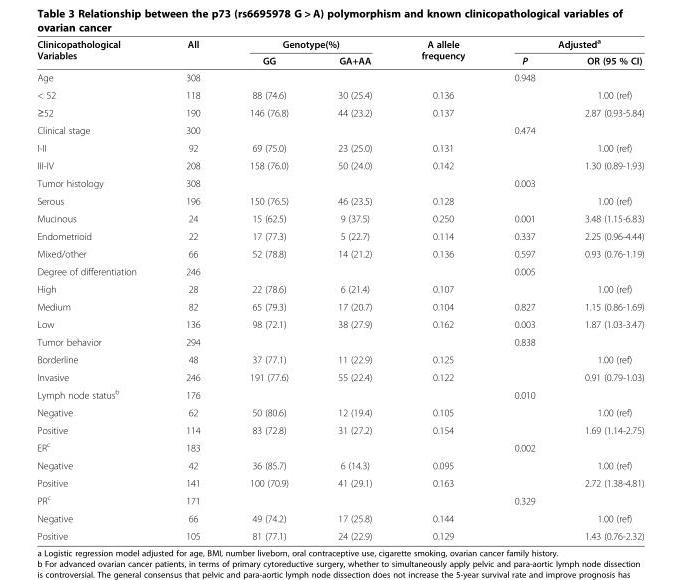table: (36, 36, 643, 541)
table column: (36, 36, 160, 541), (396, 36, 489, 541), (224, 36, 312, 541), (312, 36, 396, 541), (559, 36, 643, 541), (489, 36, 559, 541), (160, 36, 224, 541)
table column header: (36, 36, 643, 68)
table row: (36, 384, 643, 403), (36, 437, 643, 456), (36, 490, 643, 509), (36, 85, 643, 103), (36, 103, 643, 121), (36, 138, 643, 156), (36, 156, 643, 174), (36, 191, 643, 209), (36, 209, 643, 227), (36, 244, 643, 262), (36, 279, 643, 297), (36, 297, 643, 315), (36, 332, 643, 350), (36, 350, 643, 368), (36, 403, 643, 421), (36, 68, 643, 85), (36, 121, 643, 138), (36, 174, 643, 191), (36, 227, 643, 244), (36, 262, 643, 279), (36, 315, 643, 332), (36, 456, 643, 473), (36, 473, 643, 490), (36, 509, 643, 526), (36, 36, 643, 52), (36, 52, 643, 68), (36, 368, 643, 384), (36, 421, 643, 437), (36, 526, 643, 541)
table spanning cell: (36, 36, 160, 68), (489, 68, 559, 121), (489, 121, 559, 174), (489, 384, 559, 437), (489, 437, 559, 490), (489, 332, 559, 384), (396, 36, 489, 68), (224, 36, 396, 52), (489, 36, 643, 52), (160, 36, 224, 68)
